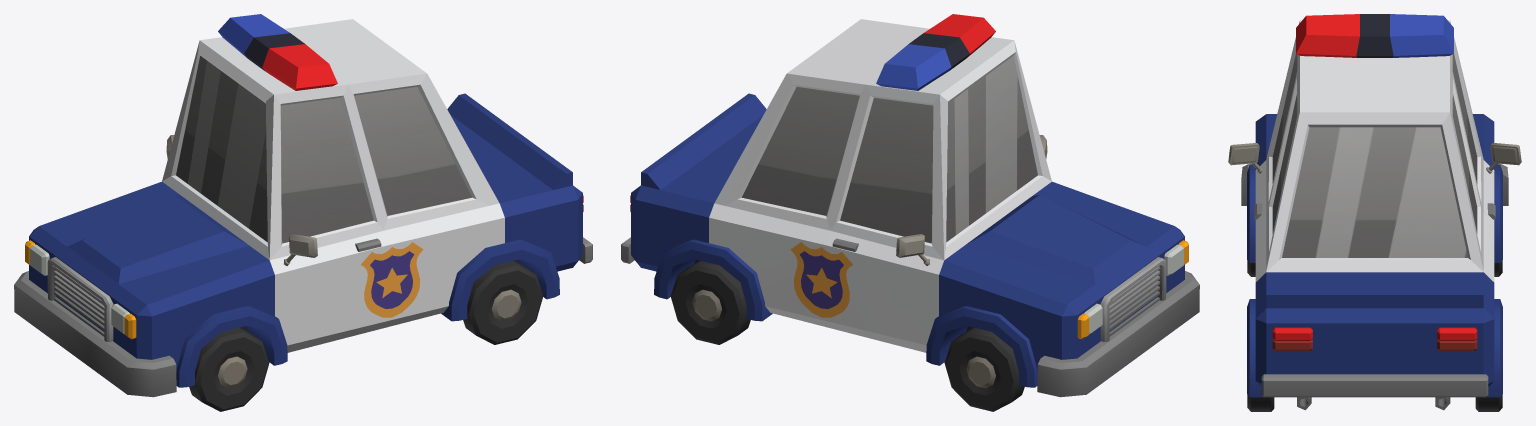
File: Car_Police_3_1_B.gltf
3 views of the same model, side by side, from view 1: azimuth 30°, elevation 25°; view 2: azimuth 150°, elevation 25°; view 3: azimuth 270°, elevation 25° (orthographic).
Visible parts, largest first — view 1: Car_Police_3_1_B, RL, FL; view 2: Car_Police_3_1_B, RR, FR; view 3: Car_Police_3_1_B, RL, RR.
Boxes of the visible parts, left/top/right/bottom form: Car_Police_3_1_B: left=14, top=14, right=592, bottom=397; RL: left=463, top=261, right=543, bottom=344; FL: left=189, top=327, right=269, bottom=411; Car_Police_3_1_B: left=621, top=14, right=1199, bottom=397; RR: left=670, top=261, right=750, bottom=344; FR: left=944, top=327, right=1024, bottom=411; Car_Police_3_1_B: left=1228, top=14, right=1521, bottom=410; RL: left=1247, top=395, right=1274, bottom=411; RR: left=1475, top=395, right=1502, bottom=411.
Size of the model in its own units: 3.31 by 2.02 by 1.78.
Materials: 3 (3 with a texture image).
